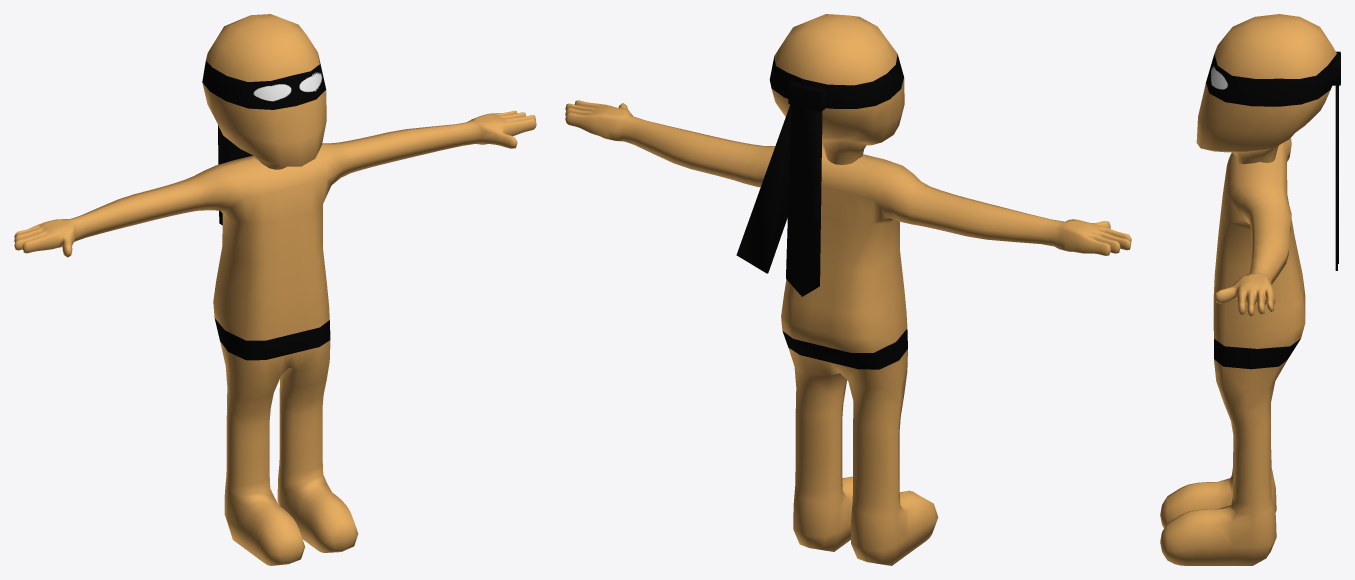
File: Karakter1.fbx
3 renders of one model, left to right at view 1: azimuth 30°, elevation 25°; view 2: azimuth 150°, elevation 25°; view 3: azimuth 270°, elevation 25°, orthographic. The views are drawn at different scales.
Parts seen in each view (by area): view 1: Karakter1; view 2: Karakter1; view 3: Karakter1.
Boxes of the visible parts, left/top/right/bottom form: Karakter1: left=14, top=14, right=536, bottom=565; Karakter1: left=565, top=14, right=1131, bottom=565; Karakter1: left=1160, top=14, right=1340, bottom=565.
Size of the model in its own units: 220 by 202 by 62.85.
